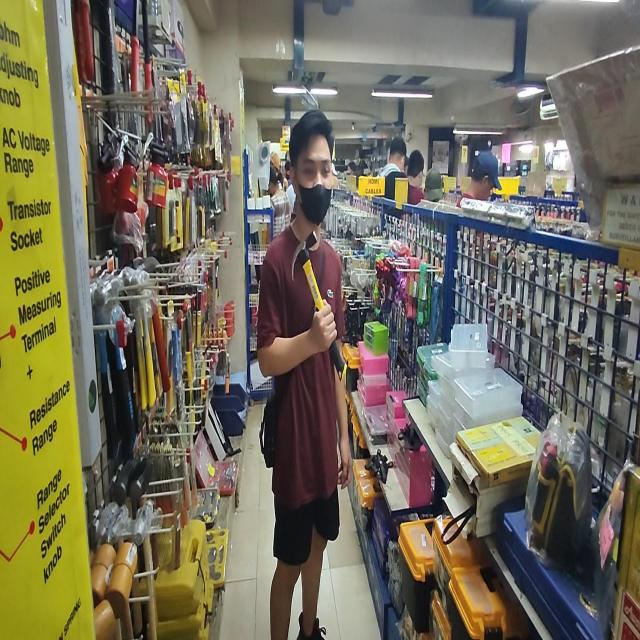hammer: (292, 230, 348, 382)
